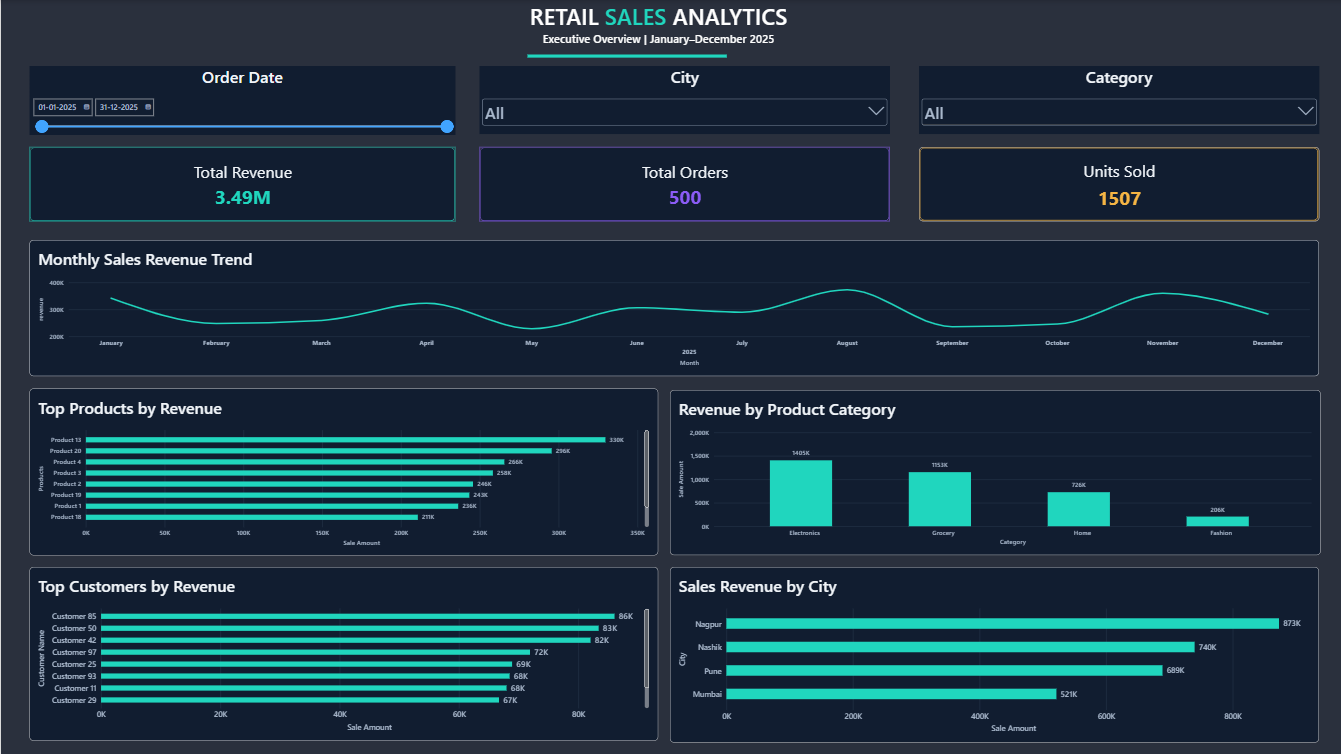

Layout of this report page (visuals, bound fields, positions):
{"tool":"powerbi","page":{"name":"Page 1","canvas":[2560,1440],"ordinal":0},"visuals":[{"type":"cardVisual","fields":{"Data":["retail_sales_analytics orders.Total Revenue"]},"box":[55.3,279.8,813.3,142],"z":0},{"type":"cardVisual","fields":{"Data":["retail_sales_analytics orders.Total Orders"]},"box":[914.1,279.8,784,142],"z":1000},{"type":"cardVisual","fields":{"Data":["retail_sales_analytics orders.Units Sold"]},"box":[1753.4,279.8,764.5,142],"z":2000},{"type":"lineChart","title":"Monthly Sales Revenue Trend","fields":{"Category":["retail_sales_analytics orders.order_date.Variation.Date Hierarchy.Year","retail_sales_analytics orders.order_date.Variation.Date Hierarchy.Month"],"Y":["Sum(retail_sales_analytics orders.sales_amount)"]},"box":[55.3,458.7,2462.6,260.2],"z":3000},{"type":"clusteredBarChart","title":"Top Products by Revenue","fields":{"Category":["retail_sales_analytics products.product_name"],"Y":["Sum(retail_sales_analytics orders.sales_amount)"]},"box":[55.3,741.7,1200.4,318.8],"z":4000},{"type":"clusteredBarChart","title":"Top Customers by Revenue","fields":{"Category":["retail_sales_analytics customers.customer_name"],"Y":["Sum(retail_sales_analytics orders.sales_amount)"]},"box":[55.3,1083.3,1200.4,331.8],"z":5000},{"type":"clusteredBarChart","title":"Sales Revenue by City","fields":{"Category":["retail_sales_analytics customers.city"],"Y":["Sum(retail_sales_analytics orders.sales_amount)"]},"box":[1278.5,1083.3,1239.4,335.1],"z":6000},{"type":"slicer","title":"Order Date","fields":{"Values":["retail_sales_analytics orders.order_date"]},"box":[55.3,126.9,813.3,130],"z":7000},{"type":"slicer","title":"City","fields":{"Values":["retail_sales_analytics customers.city"]},"box":[914.1,126.9,784,130],"z":8000},{"type":"slicer","title":"Category","fields":{"Values":["retail_sales_analytics products.category"]},"box":[1753.4,126.9,764.5,130],"z":9000},{"type":"clusteredColumnChart","title":"Revenue by Product Category","fields":{"Category":["retail_sales_analytics products.category"],"Y":["Sum(retail_sales_analytics orders.sales_amount)"]},"box":[1278.5,745,1242.7,315.5],"z":10000},{"type":"textbox","box":[813.3,0,884.8,126.9],"z":11000},{"type":"shape","box":[1005.2,84.6,380.6,42.3],"z":11001}]}

Visuals, with their boxes in screenshot pixels (x1, y1, x2, y2), scaled from the page's 2560x1440 canvas onto the 1341x754 screenshot:
cardVisual - retail_sales_analytics orders.Total Revenue: [left=29, top=147, right=455, bottom=221]
cardVisual - retail_sales_analytics orders.Total Orders: [left=479, top=147, right=890, bottom=221]
cardVisual - retail_sales_analytics orders.Units Sold: [left=918, top=147, right=1319, bottom=221]
"Monthly Sales Revenue Trend" lineChart: [left=29, top=240, right=1319, bottom=376]
"Top Products by Revenue" clusteredBarChart: [left=29, top=388, right=658, bottom=555]
"Top Customers by Revenue" clusteredBarChart: [left=29, top=567, right=658, bottom=741]
"Sales Revenue by City" clusteredBarChart: [left=670, top=567, right=1319, bottom=743]
"Order Date" slicer: [left=29, top=66, right=455, bottom=135]
"City" slicer: [left=479, top=66, right=890, bottom=135]
"Category" slicer: [left=918, top=66, right=1319, bottom=135]
"Revenue by Product Category" clusteredColumnChart: [left=670, top=390, right=1321, bottom=555]
textbox: [left=426, top=0, right=890, bottom=66]
shape: [left=527, top=44, right=726, bottom=66]
